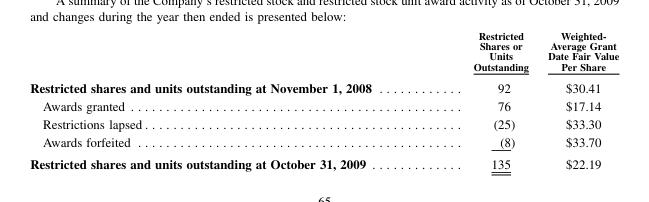table: (29, 29, 618, 170)
table column: (29, 29, 421, 170), (421, 29, 537, 170), (537, 29, 618, 170)
table column header: (29, 29, 618, 75)
table row: (29, 29, 618, 75), (29, 75, 618, 96), (29, 132, 618, 152), (29, 96, 618, 114), (29, 114, 618, 132), (29, 152, 618, 170)
